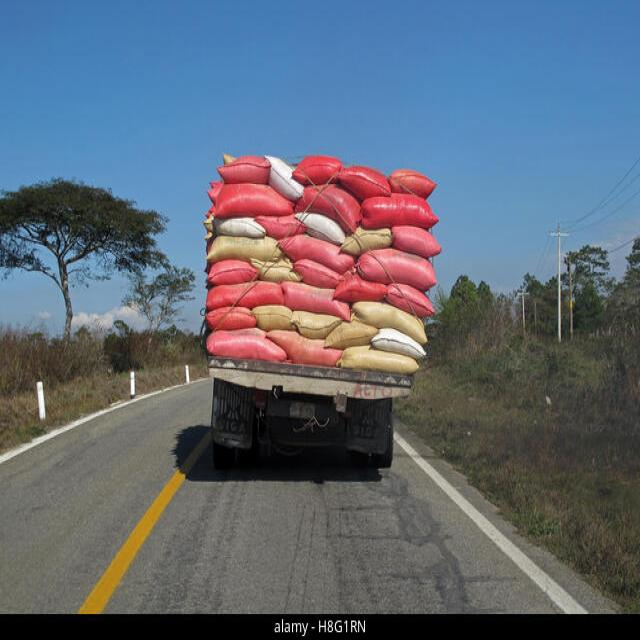goods: (205, 157, 441, 373)
truck: (209, 356, 412, 467)
